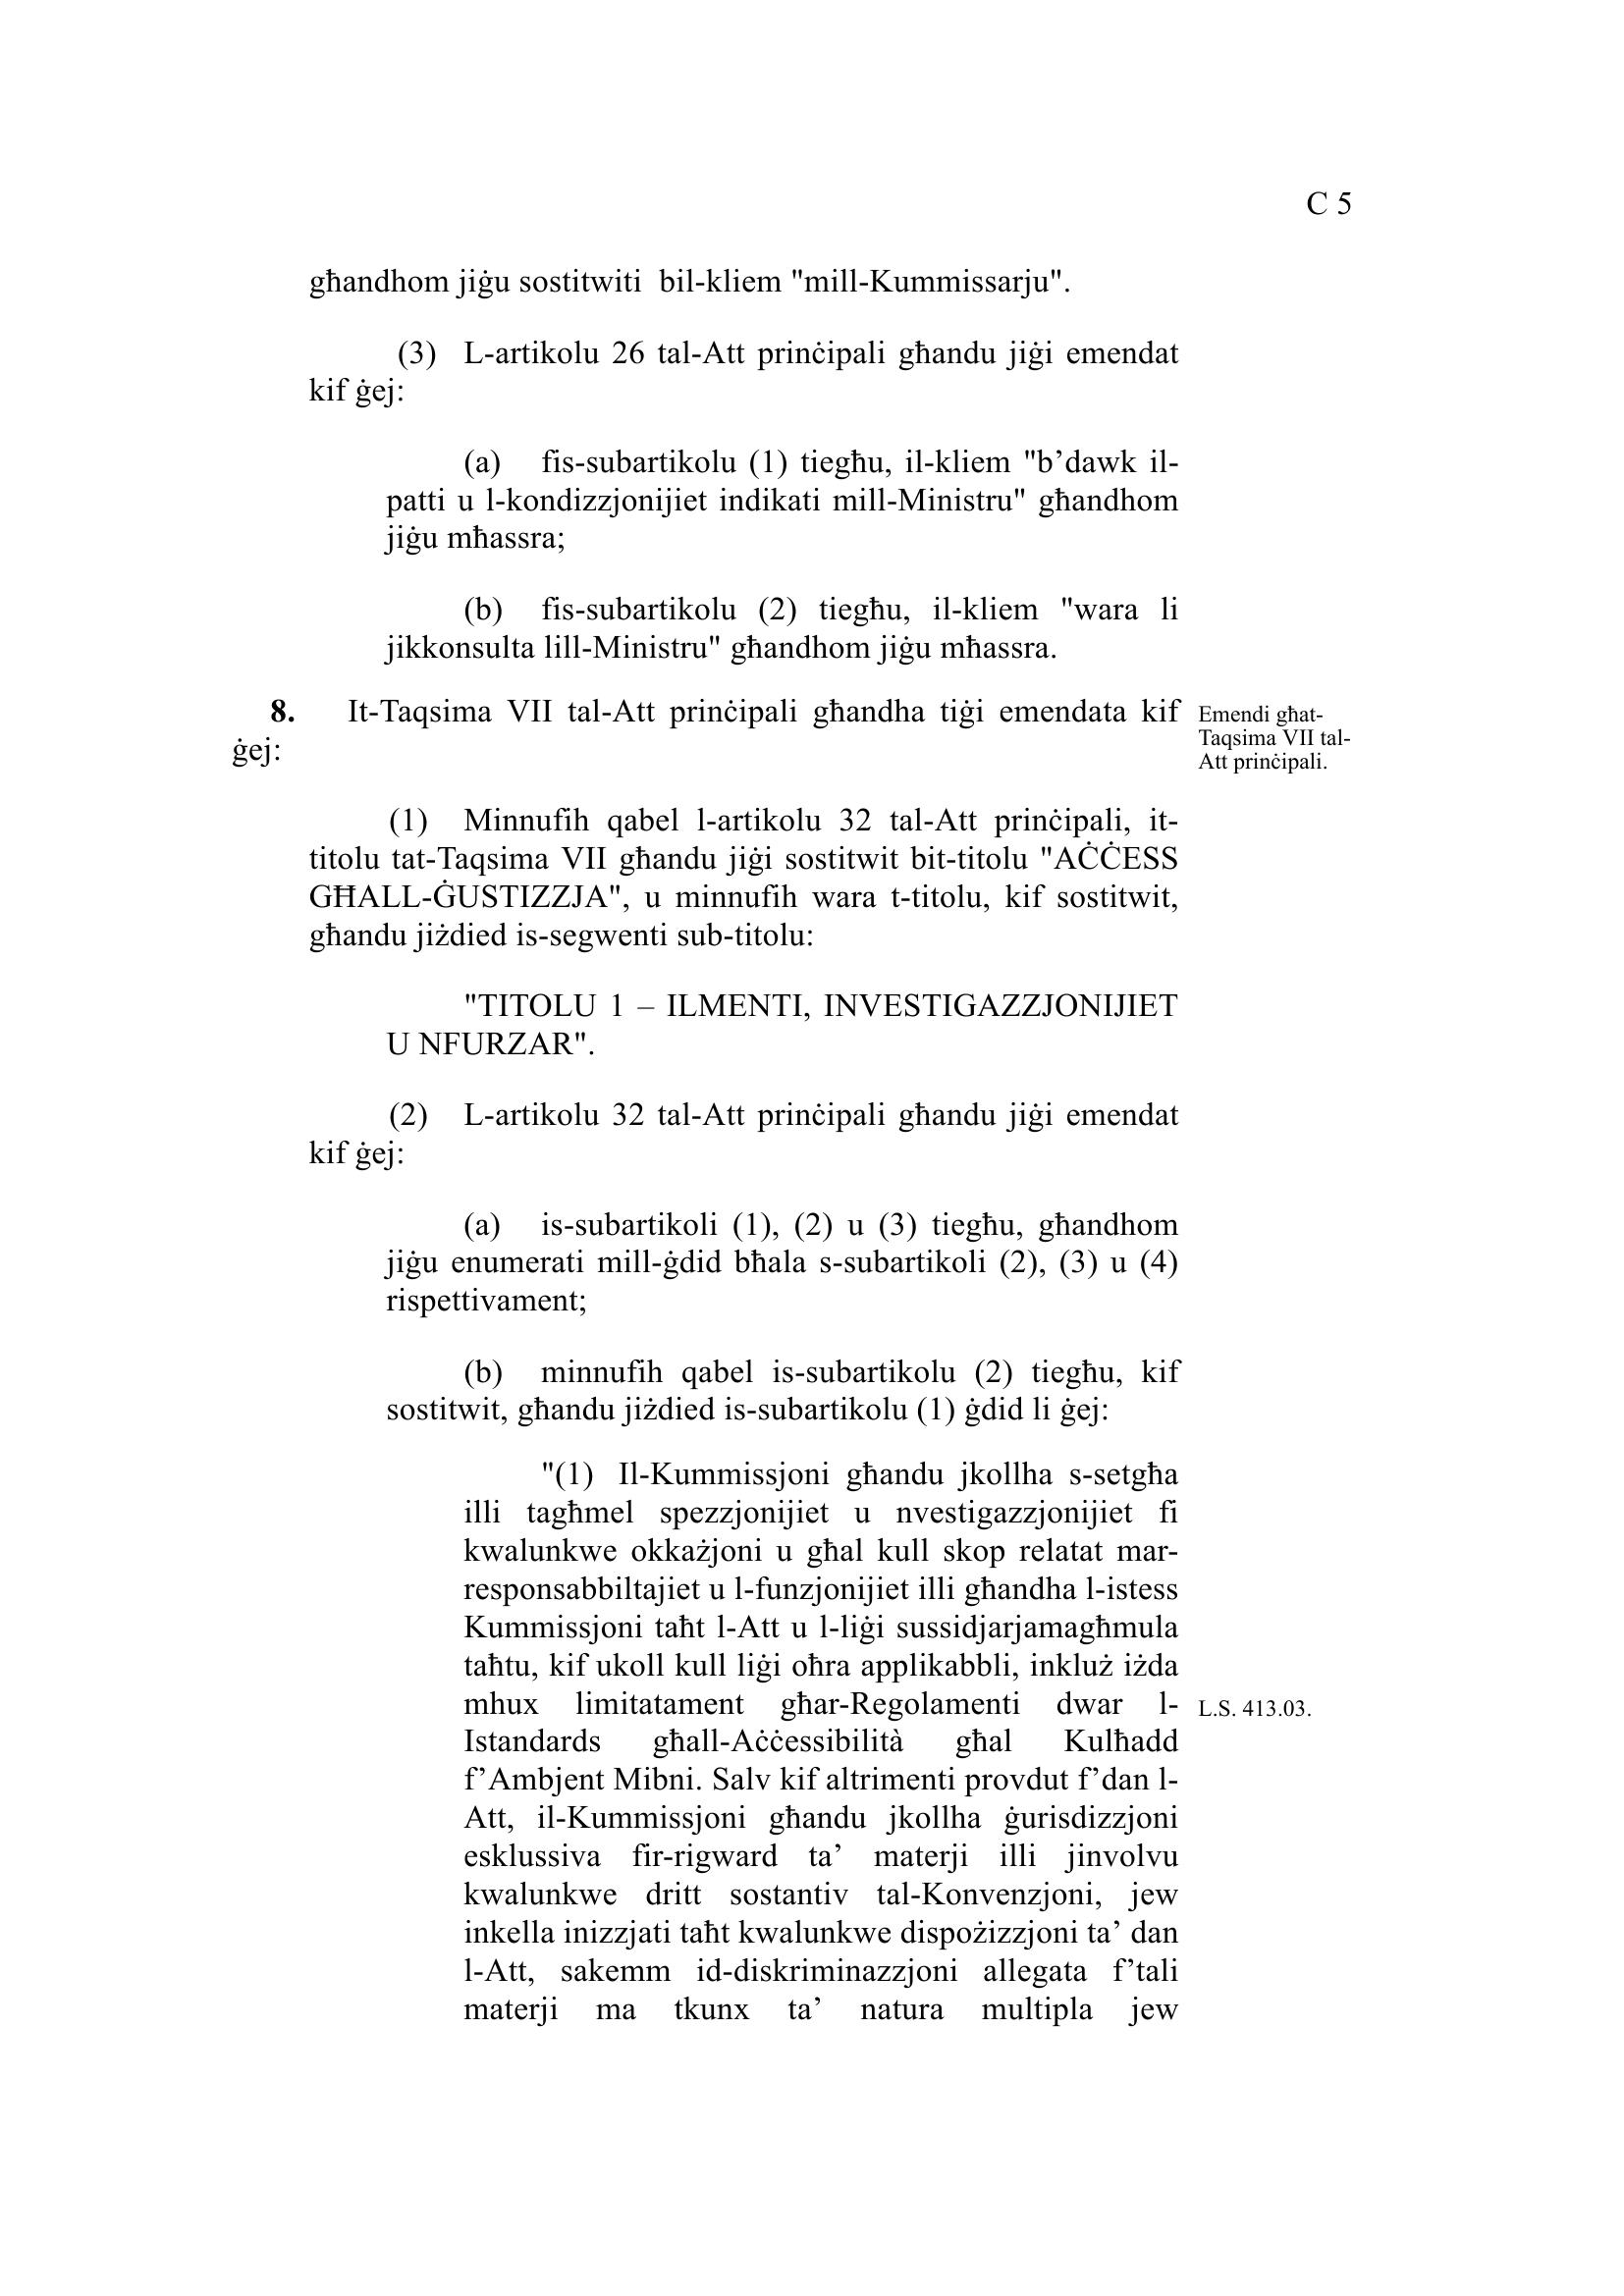text: (204, 246, 1190, 2052)
